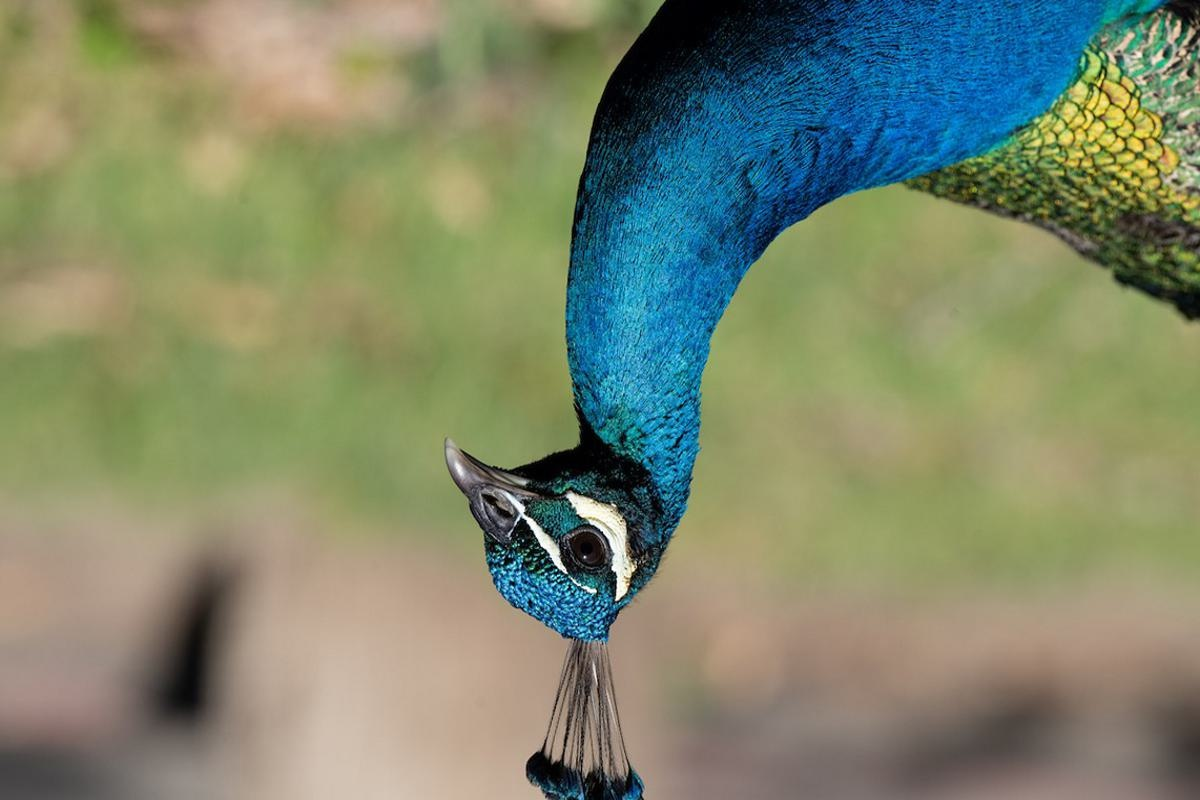peacock: (459, 25, 1095, 686)
